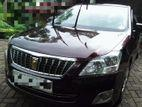car: (5, 4, 142, 107)
